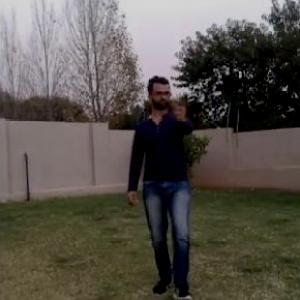takeoff-hand: (170, 91, 194, 123)
